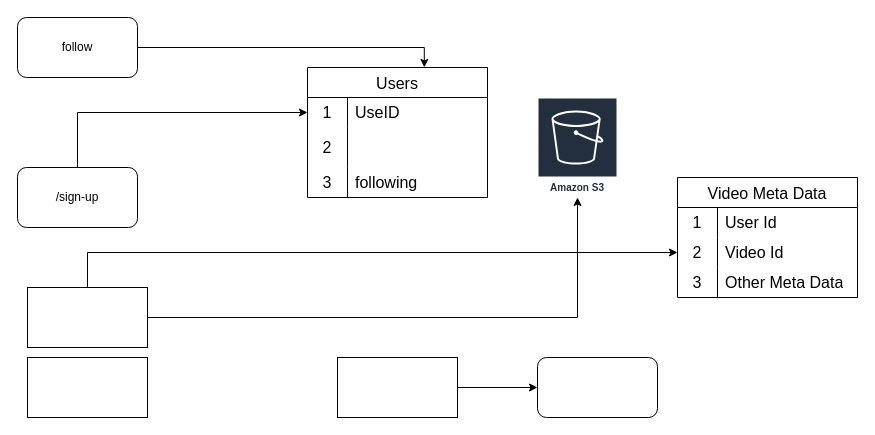
Image size: 875x435. Some labels were removed from this diagram. The centre of each missing label's shape, as x and y in pixels:
"/feed" belongs at point 87,387.
"/upload-video" belongs at point 87,317.
"Algo to match load videos" belongs at point 397,387.
